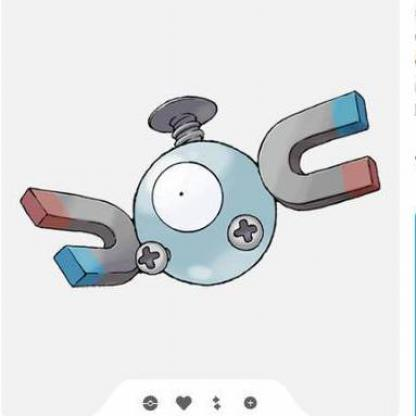Magnemite: (16, 69, 388, 294)
